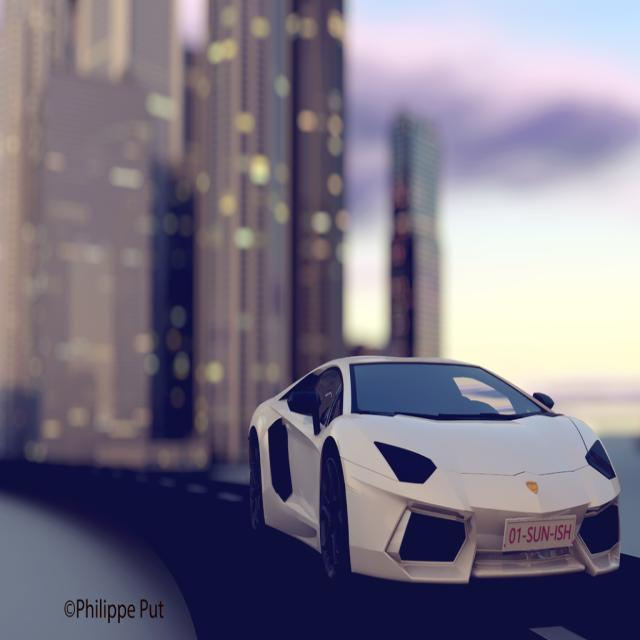car: (240, 352, 618, 594)
